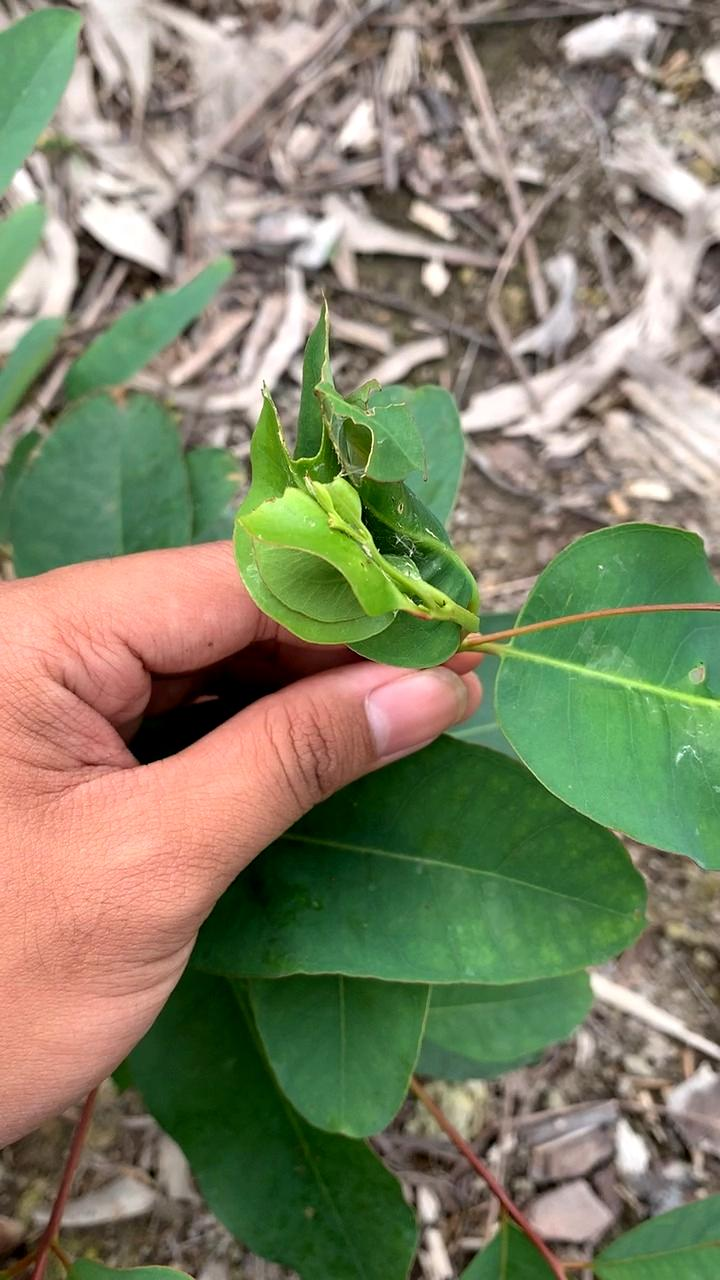Leaf Roller - Leaf: (252, 330, 480, 669)
